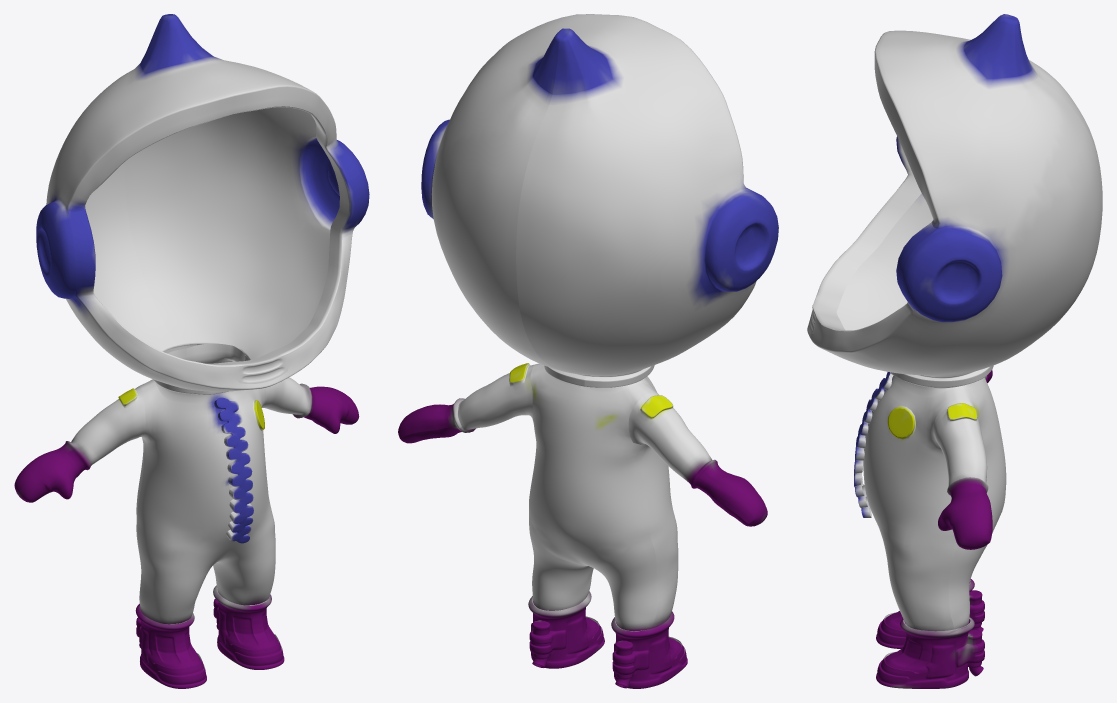
The model's file is astrodamjan.glb.
3 renders of one model, left to right at view 1: azimuth 30°, elevation 25°; view 2: azimuth 150°, elevation 25°; view 3: azimuth 270°, elevation 25°, orthographic. The views are drawn at different scales.
Parts seen in each view (by area): view 1: astronaut; view 2: astronaut; view 3: astronaut.
Boxes of the visible parts, x1=… form: astronaut: x1=14, y1=14, x2=369, y2=688; astronaut: x1=398, y1=14, x2=778, y2=688; astronaut: x1=807, y1=14, x2=1102, y2=688.
Bounding box in the file's own units: 18.55 × 32.45 × 13.53.
